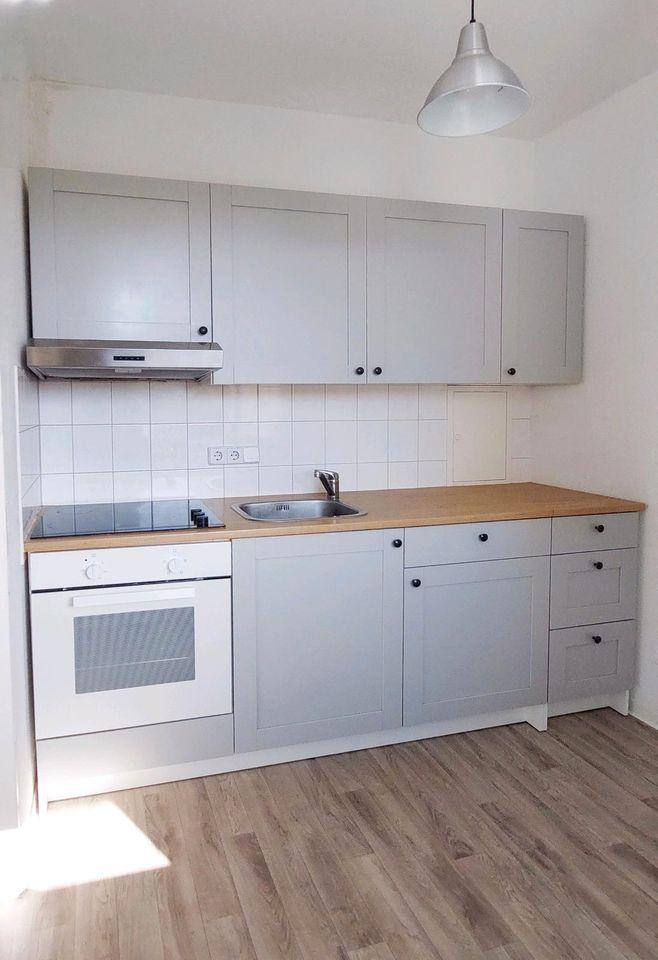cabinet_door: (237, 533, 403, 743), (33, 177, 211, 347), (216, 189, 365, 377), (371, 203, 502, 387), (401, 561, 550, 714), (506, 213, 582, 388), (549, 551, 634, 618), (405, 523, 550, 560), (550, 626, 631, 691), (549, 515, 636, 550)
handle: (64, 580, 200, 613), (587, 629, 610, 653), (591, 517, 611, 539), (504, 359, 521, 383), (369, 359, 385, 384), (195, 320, 209, 346), (406, 574, 424, 591), (354, 360, 367, 383), (476, 528, 491, 547), (591, 558, 604, 575), (390, 533, 401, 553)
